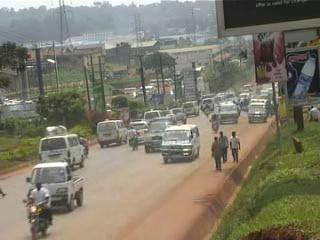Car: (141, 117, 174, 153), (128, 118, 154, 143), (172, 103, 189, 126), (217, 95, 240, 110), (162, 107, 176, 126)
Motorcycle: (24, 182, 56, 233), (126, 124, 142, 153), (76, 134, 91, 156), (209, 112, 221, 135), (200, 101, 211, 118)
